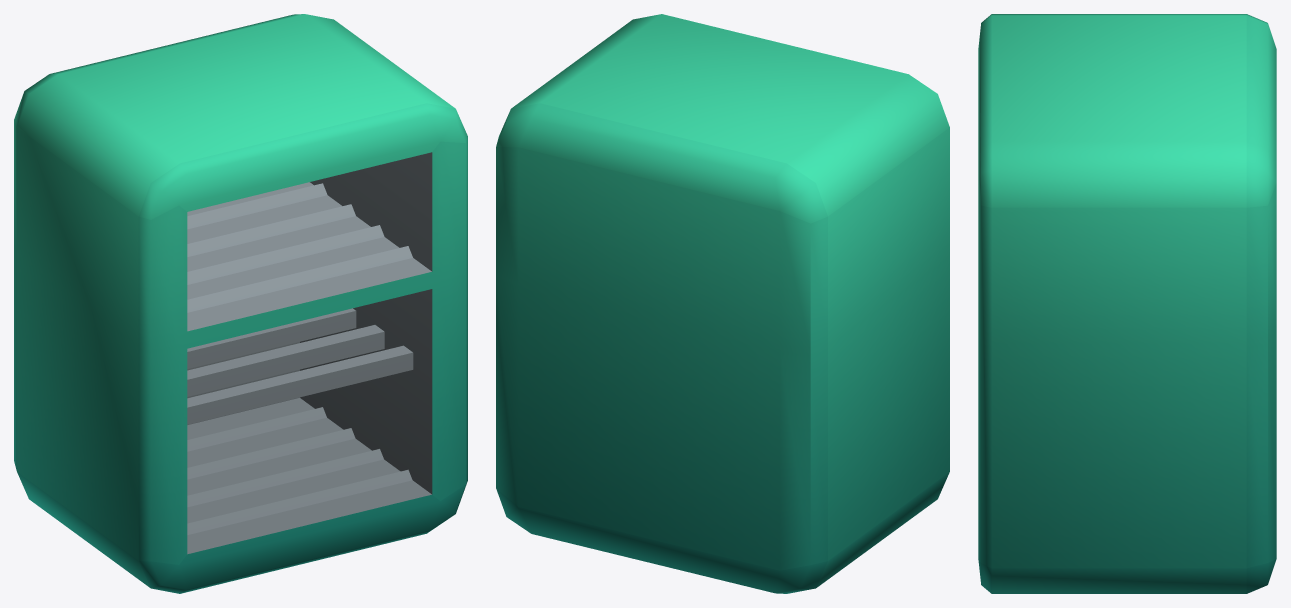
File: fridge_B.obj
3 renders of one model, left to right at view 1: azimuth 30°, elevation 25°; view 2: azimuth 150°, elevation 25°; view 3: azimuth 270°, elevation 25°, orthographic. The views are drawn at different scales.
Visible parts, largest first — view 1: fridge_B_Cube.006; view 2: fridge_B_Cube.006; view 3: fridge_B_Cube.006.
Boxes of the visible parts, x1,y1,x2,y2 form: fridge_B_Cube.006: (14,14,467,593); fridge_B_Cube.006: (496,14,949,593); fridge_B_Cube.006: (978,14,1276,593).
Bounding box in the file's own units: 2 × 2.5 × 1.5.
Materials: 1 (1 with a texture image).
